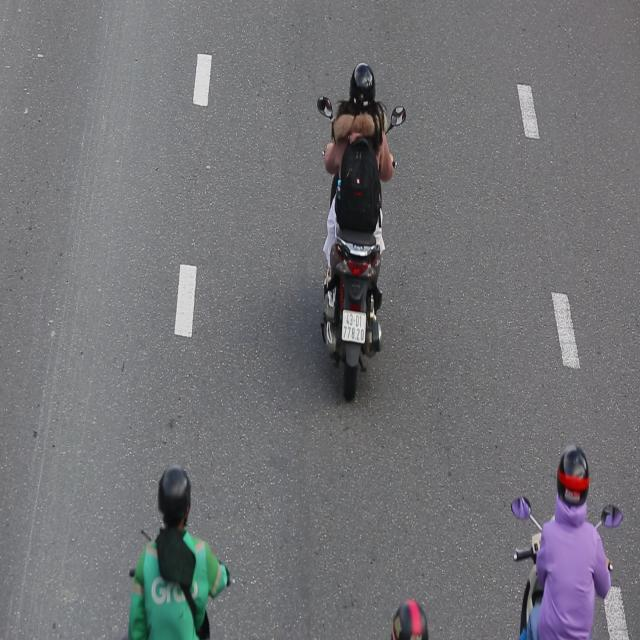motorbike: (314, 56, 406, 406)
